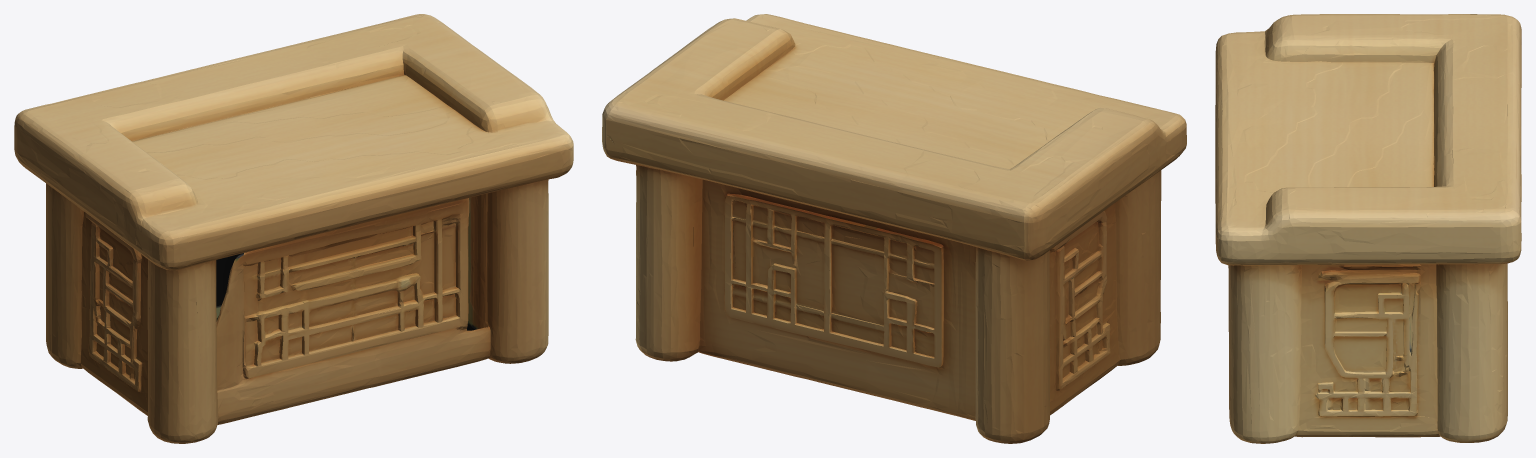
File: s1_cashier_desk.glb
The picture shows the model from 3 angles, left to right: view 1: azimuth 30°, elevation 25°; view 2: azimuth 150°, elevation 25°; view 3: azimuth 270°, elevation 25°; orthographic projection. The views are drawn at different scales.
Parts seen in each view (by area): view 1: world; view 2: world; view 3: world.
Part boxes in pixels (x1,y1,x2,y2): world: (14,14,573,443); world: (602,14,1186,443); world: (1215,14,1521,443).
Size of the model in its own units: 0.9991 by 0.5476 by 0.6296.
1 material, 1 textured.
